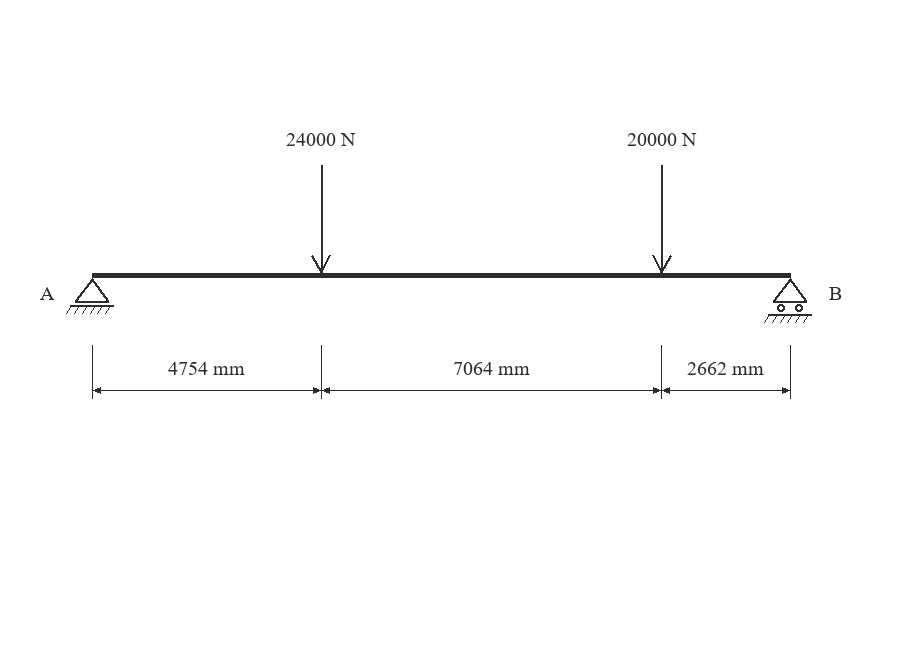pin_support: (66, 278, 114, 314)
point_load: (311, 165, 331, 274), (652, 165, 672, 274)
roller_support: (764, 278, 812, 323)
